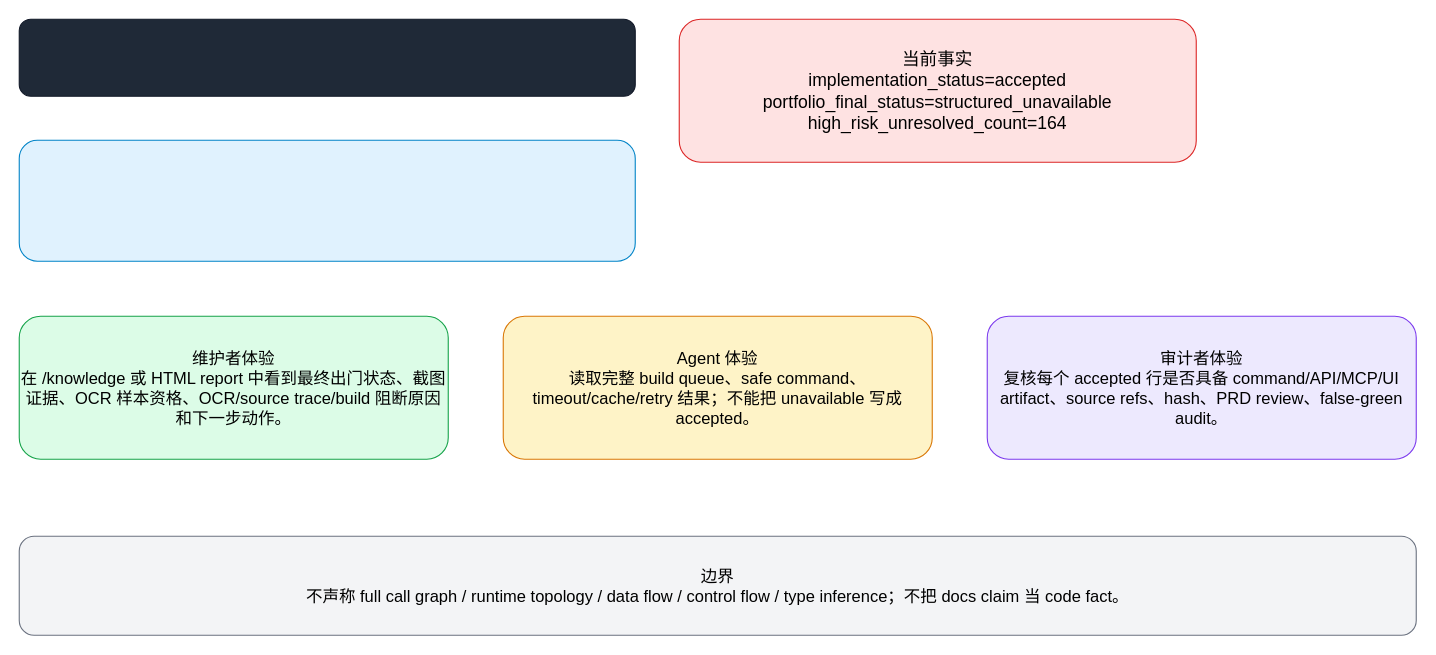
Image size: 1436x655. Some labels were removed from this diagram. Each missing label, with the centre of its shape:
"V2.111-V2.115：项目组合最终验收闭环" belongs at point 326,57.
"阶段目标 把 OCR 样本资格、OCR 执行、source trace、UI 截图、多项目安全 build 的缺口转成真实执行证据或明确结构化阻断。" belongs at point 326,200.
